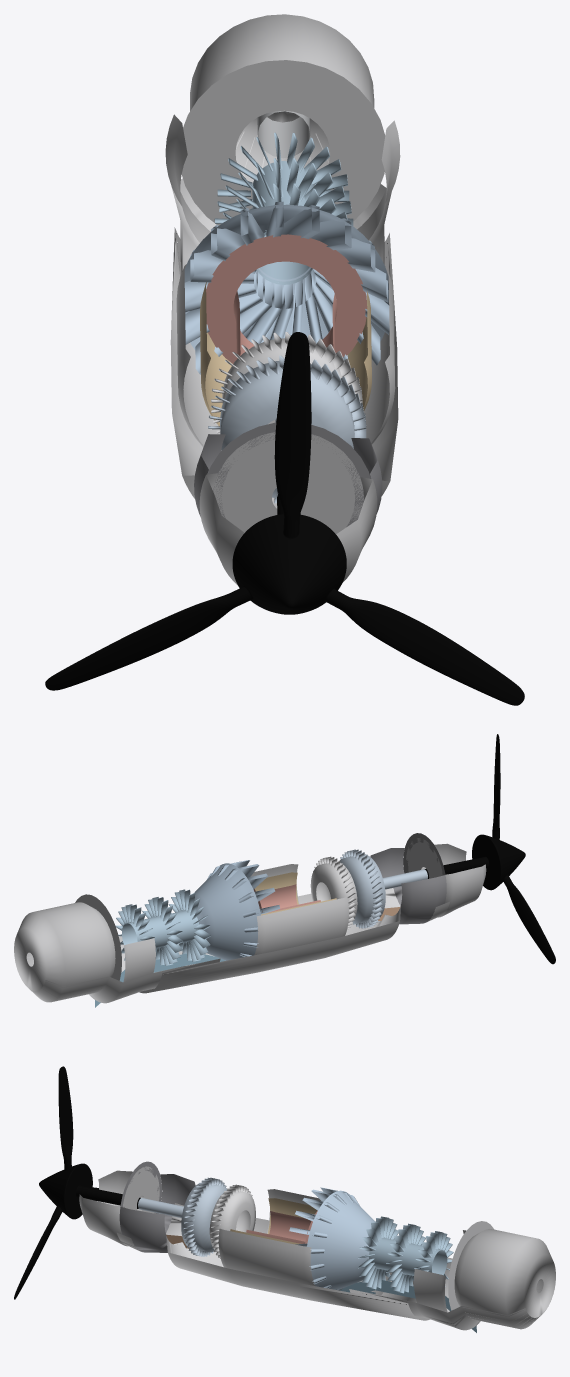
Rendered from hydraulic_system_training.glb.
3 renders of one model, top to bottom at view 1: azimuth 30°, elevation 25°; view 2: azimuth 150°, elevation 25°; view 3: azimuth 270°, elevation 25°, orthographic. The views are drawn at different scales.
Visible parts, largest first — view 1: geometry_0; view 2: geometry_0; view 3: geometry_0.
Part boxes in pixels (x1=…): geometry_0: x1=45, y1=14, x2=524, y2=705; geometry_0: x1=14, y1=734, x2=555, y2=1007; geometry_0: x1=14, y1=1066, x2=555, y2=1332.
Size of the model in its own units: 1.23 by 0.6674 by 1.64.
